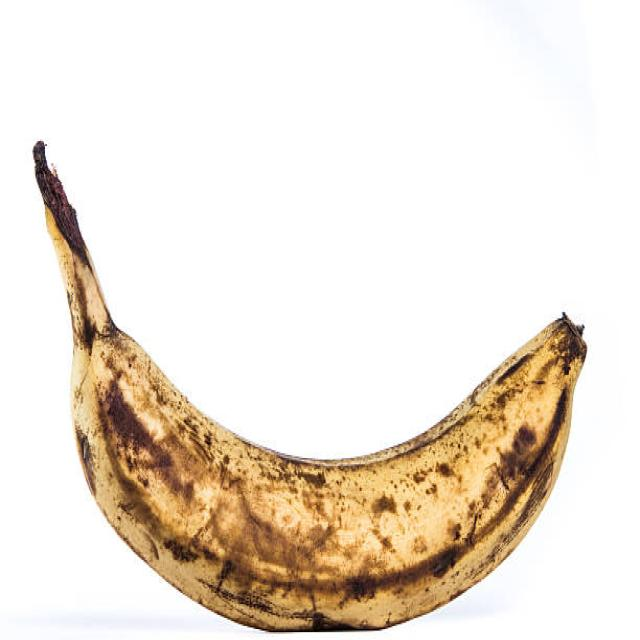overripe: (52, 224, 589, 640)
